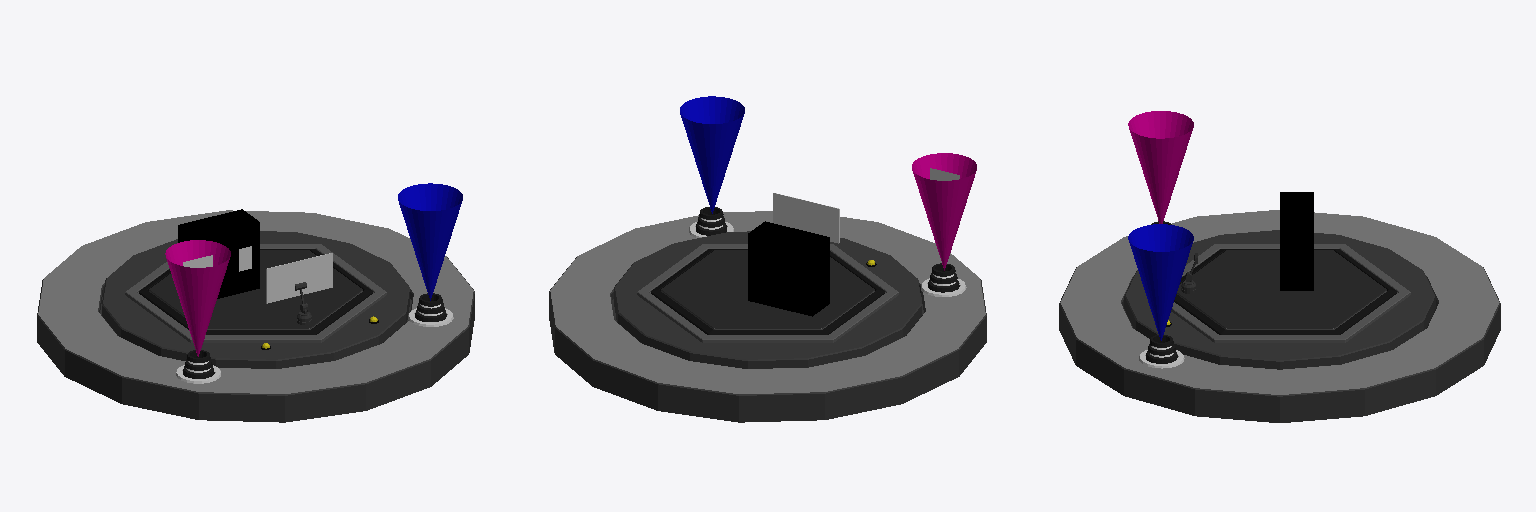
File: hub.obj
The picture shows the model from 3 angles: view 1: azimuth 30°, elevation 25°; view 2: azimuth 150°, elevation 25°; view 3: azimuth 270°, elevation 25°; orthographic projection.
Parts seen in each view (by area): view 1: Circle, Circle.001_Circle.002, Cone.001, Cone, Cube_Cube.007, ecran_Cube.005, projector.001_Cylinder.001, projector_Cylinder.000; view 2: Circle, Circle.001_Circle.002, Cube_Cube.007, Cone.001, Cone, ecran_Cube.005, projector_Cylinder.000, projector.001_Cylinder.001; view 3: Circle, Circle.001_Circle.002, Cone.001, Cone, Cube_Cube.007, projector.001_Cylinder.001.
Part boxes in pixels (bbox=[...]): Circle: bbox=[37, 210, 474, 422]; Circle.001_Circle.002: bbox=[125, 244, 386, 342]; Cone.001: bbox=[398, 183, 462, 300]; Cone: bbox=[165, 240, 230, 356]; Cube_Cube.007: bbox=[178, 209, 259, 298]; ecran_Cube.005: bbox=[266, 253, 332, 303]; projector.001_Cylinder.001: bbox=[408, 293, 453, 326]; projector_Cylinder.000: bbox=[176, 350, 220, 383]; Circle: bbox=[549, 211, 986, 422]; Circle.001_Circle.002: bbox=[637, 244, 898, 342]; Cube_Cube.007: bbox=[748, 221, 829, 316]; Cone.001: bbox=[680, 96, 744, 213]; Cone: bbox=[912, 153, 976, 270]; ecran_Cube.005: bbox=[773, 193, 839, 243]; projector_Cylinder.000: bbox=[921, 263, 966, 296]; projector.001_Cylinder.001: bbox=[689, 207, 733, 237]; Circle: bbox=[1059, 210, 1500, 422]; Circle.001_Circle.002: bbox=[1171, 244, 1410, 342]; Cone.001: bbox=[1128, 224, 1193, 340]; Cone: bbox=[1128, 111, 1193, 223]; Cube_Cube.007: bbox=[1280, 192, 1313, 290]; projector.001_Cylinder.001: bbox=[1139, 335, 1184, 368].
Bounding box in the file's own units: 15.52 × 5.74 × 15.52.